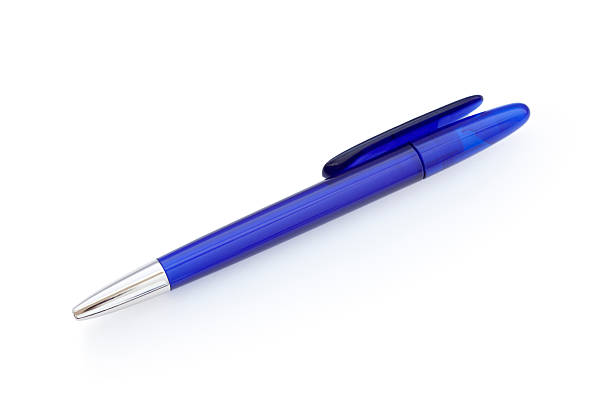pen: (63, 75, 540, 335)
